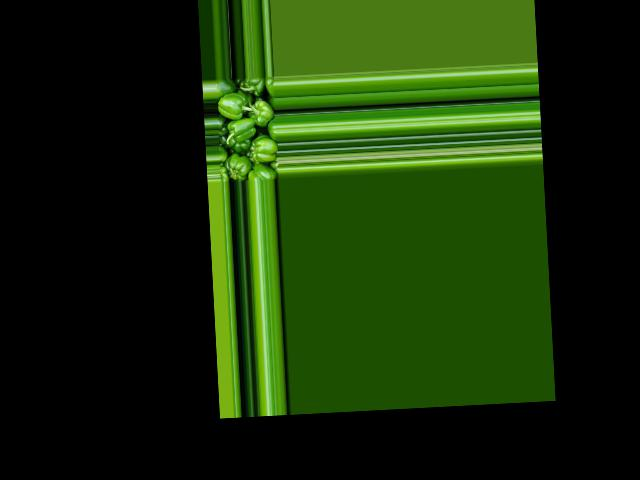bell_pepper: (215, 77, 235, 102)
